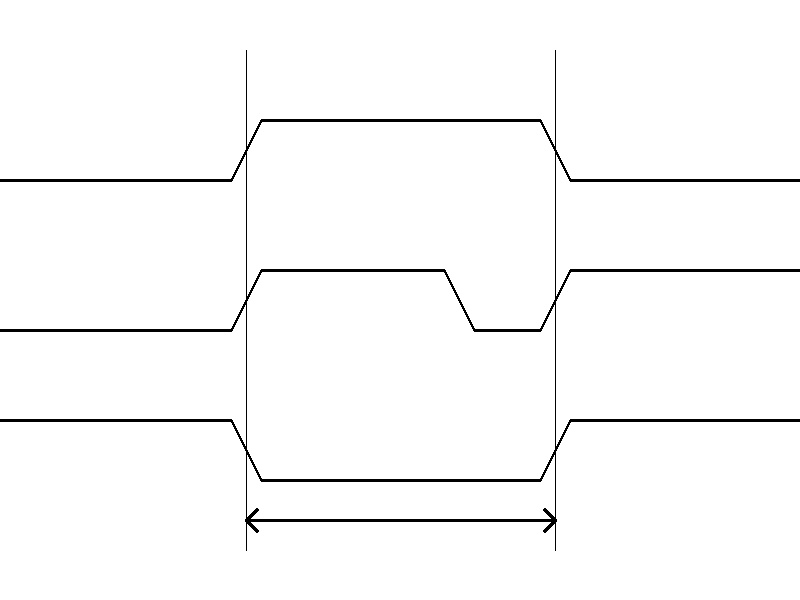double_arrow: (246, 505, 555, 535)
